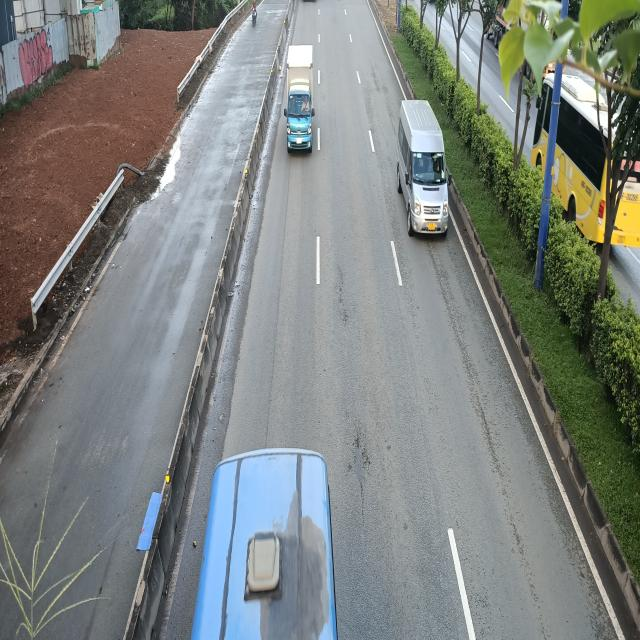truck: (283, 44, 315, 152)
van: (396, 98, 449, 235)
